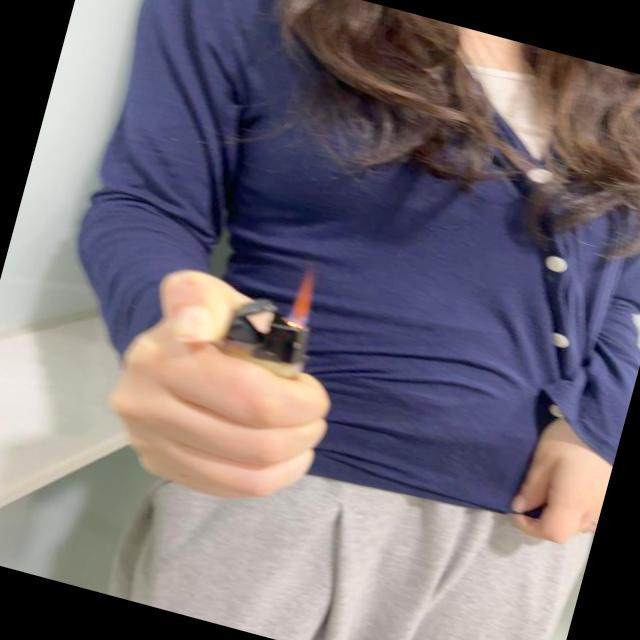fire: (284, 261, 326, 333)
